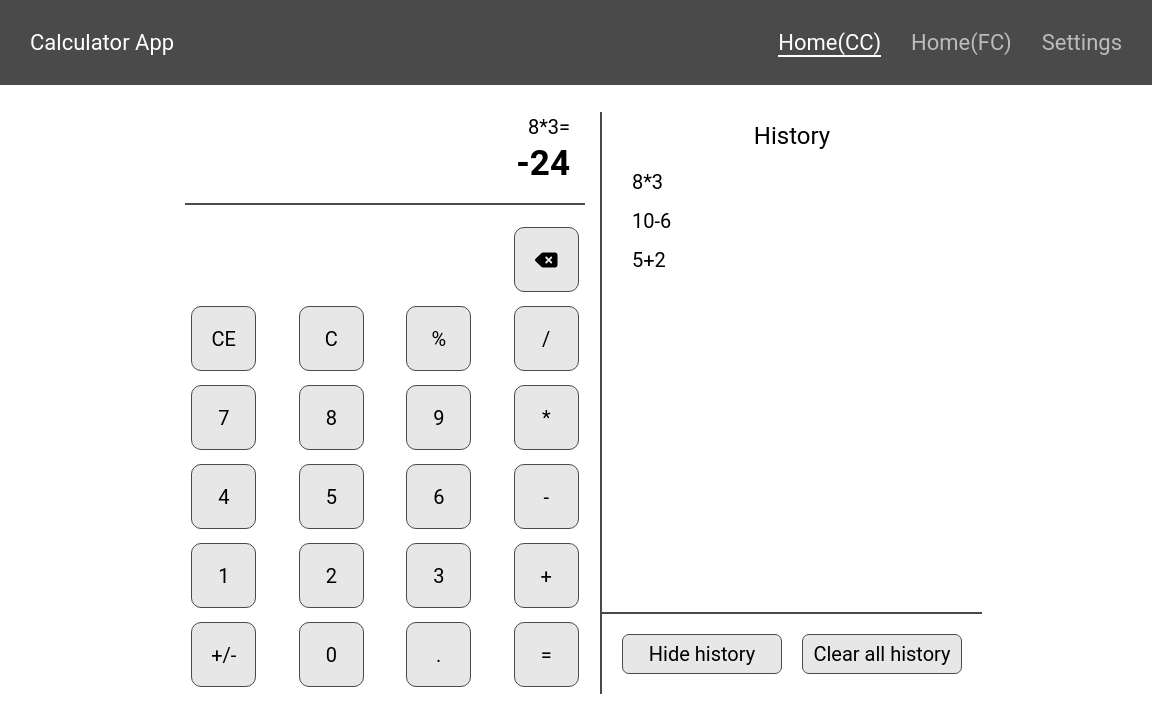
Home CC E2E › should perform division of two numbers
What coordinates should you click on to do the following:
click the text with test id "btn/"
I would click on:
 (547, 339)
Its box is x1=514 y1=306 x2=579 y2=371.
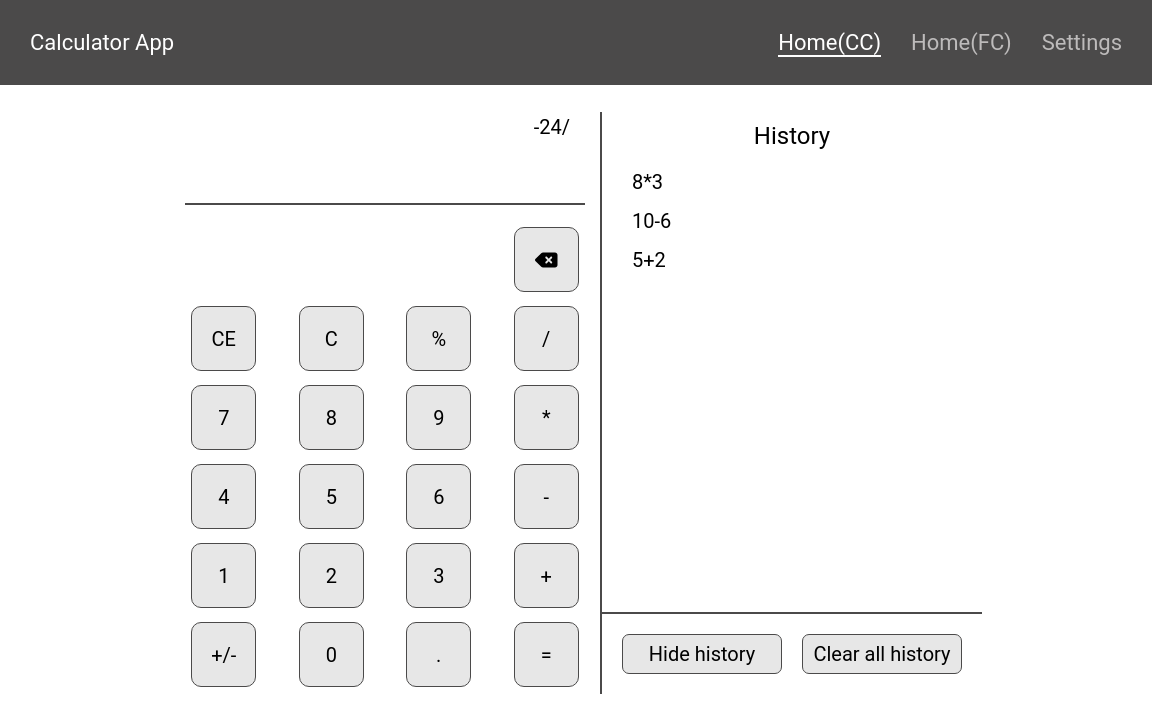
What coordinates should you click on to do the following:
click the text with test id "btn6"
I would click on:
 (439, 497)
Its box is x1=406 y1=464 x2=471 y2=529.
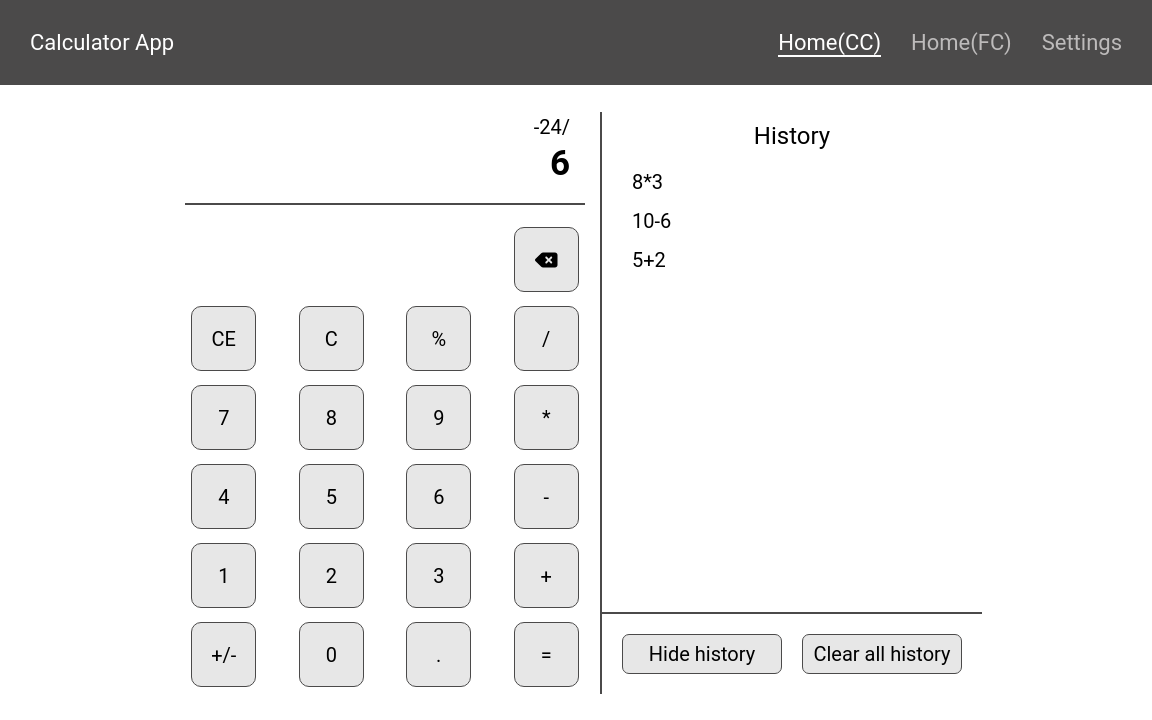
What coordinates should you click on to do the following:
click the text with test id "btn="
I would click on:
 (547, 655)
Its box is x1=514 y1=622 x2=579 y2=687.
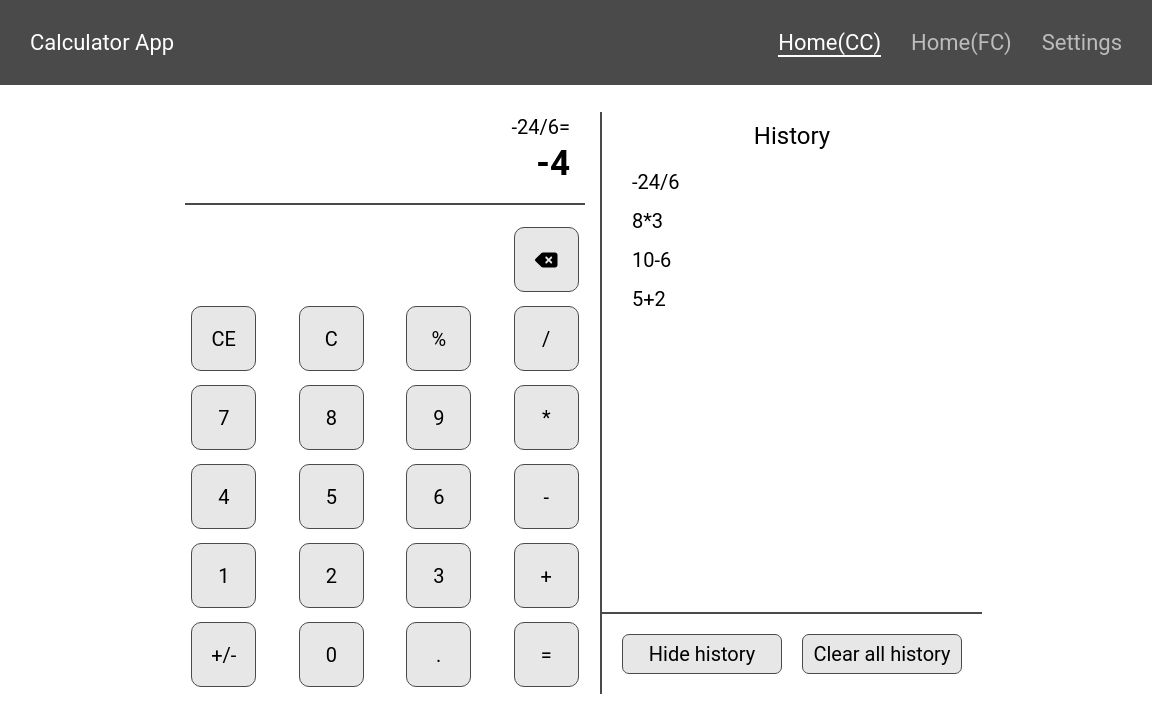
Check: the text with test id "displayExpr" reads "-24/6=", box x1=512 y1=115 x2=571 y2=138
Check: the text with test id "displayInput" reads "-4", box x1=536 y1=143 x2=570 y2=184
